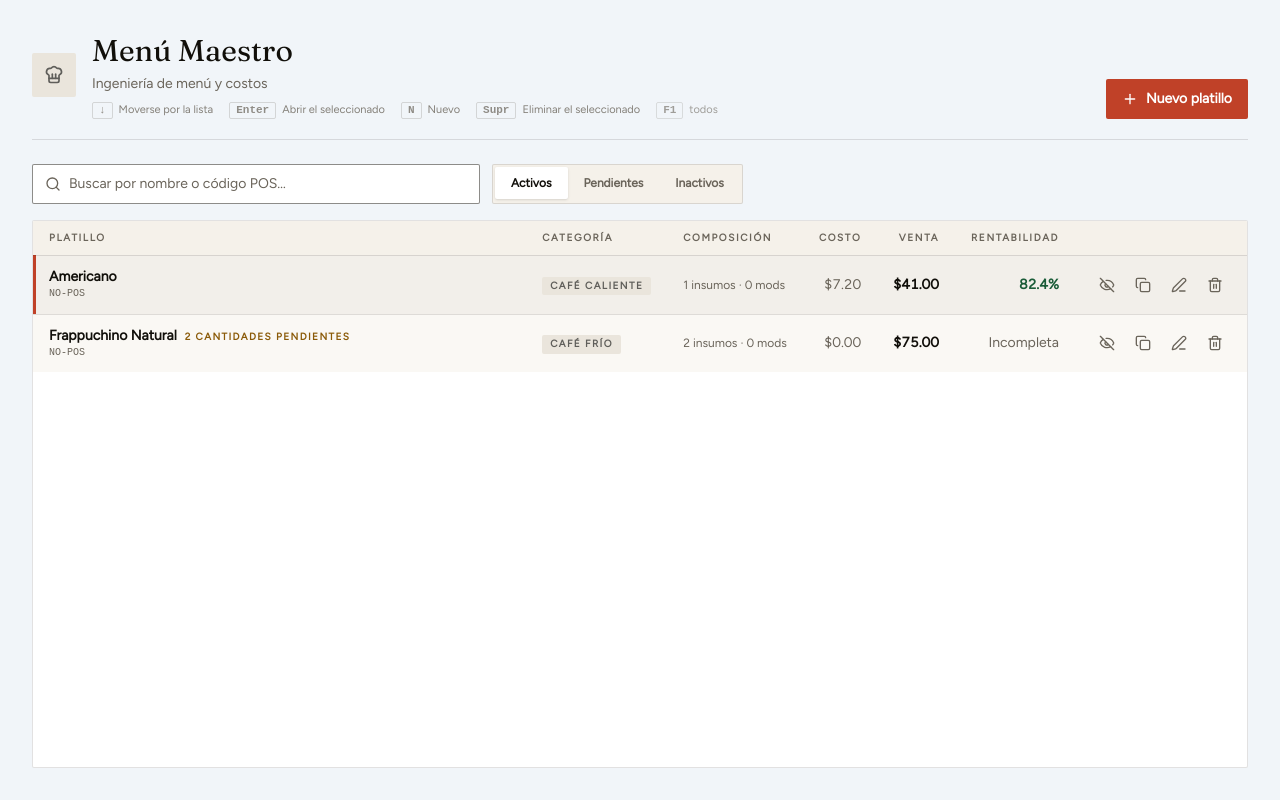
Test: RecetasScreen · recetas plantilla › volver a agregar un ingrediente le pone la cantidad nueva: no suma
This screenshot has width=1280, height=800.
Double-click the text "Americano" at (83, 276), box [49, 268, 117, 285]
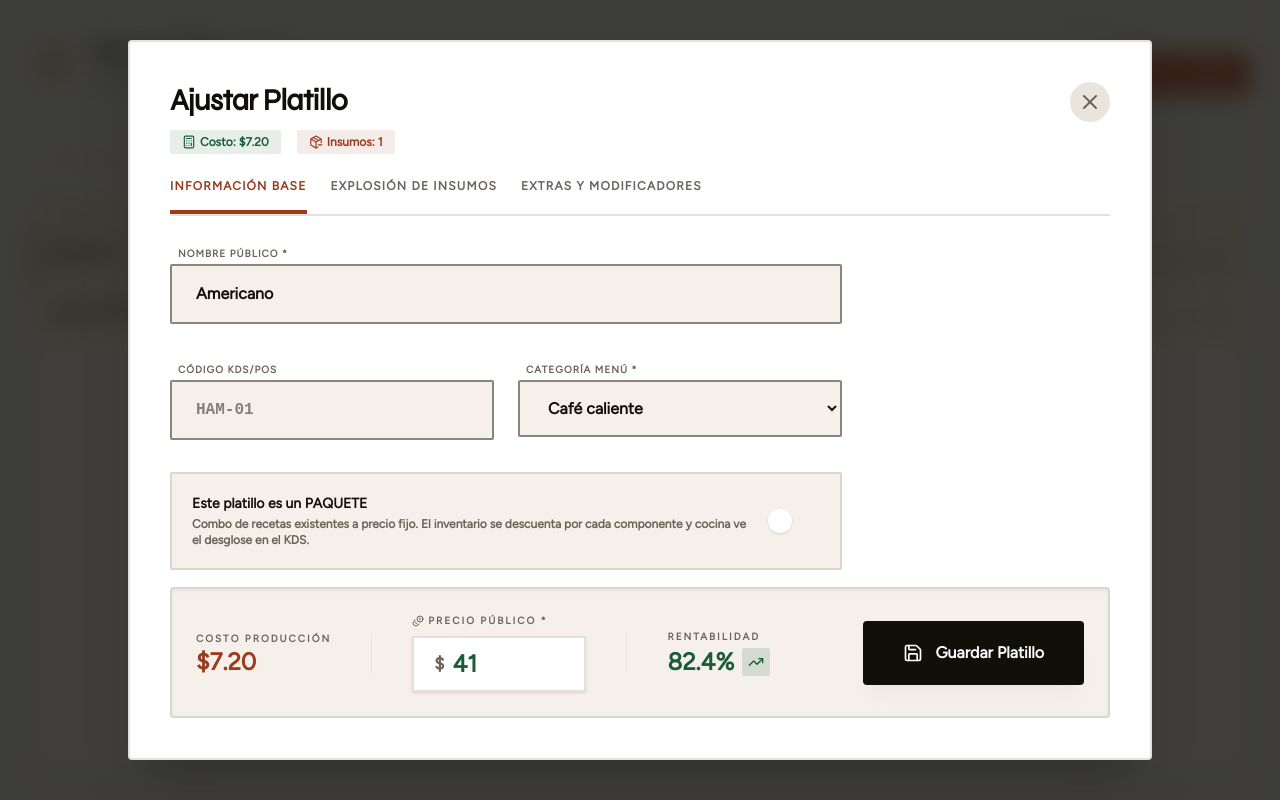
Click the button "Explosión de Insumos" at (414, 196), box [330, 178, 497, 214]
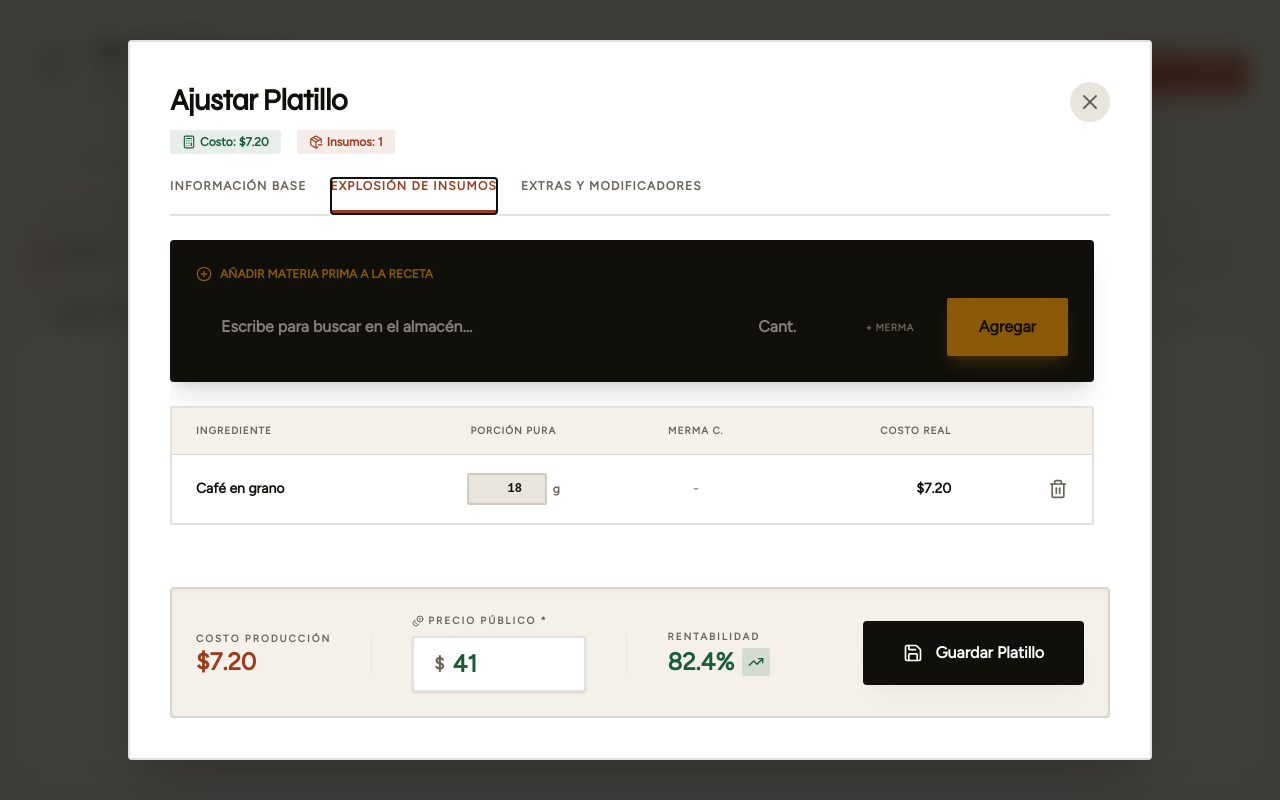
Type "Café" into the field with placeholder "Escribe para buscar en el almacén…" at (458, 327), box [196, 298, 721, 356]
Then press Enter
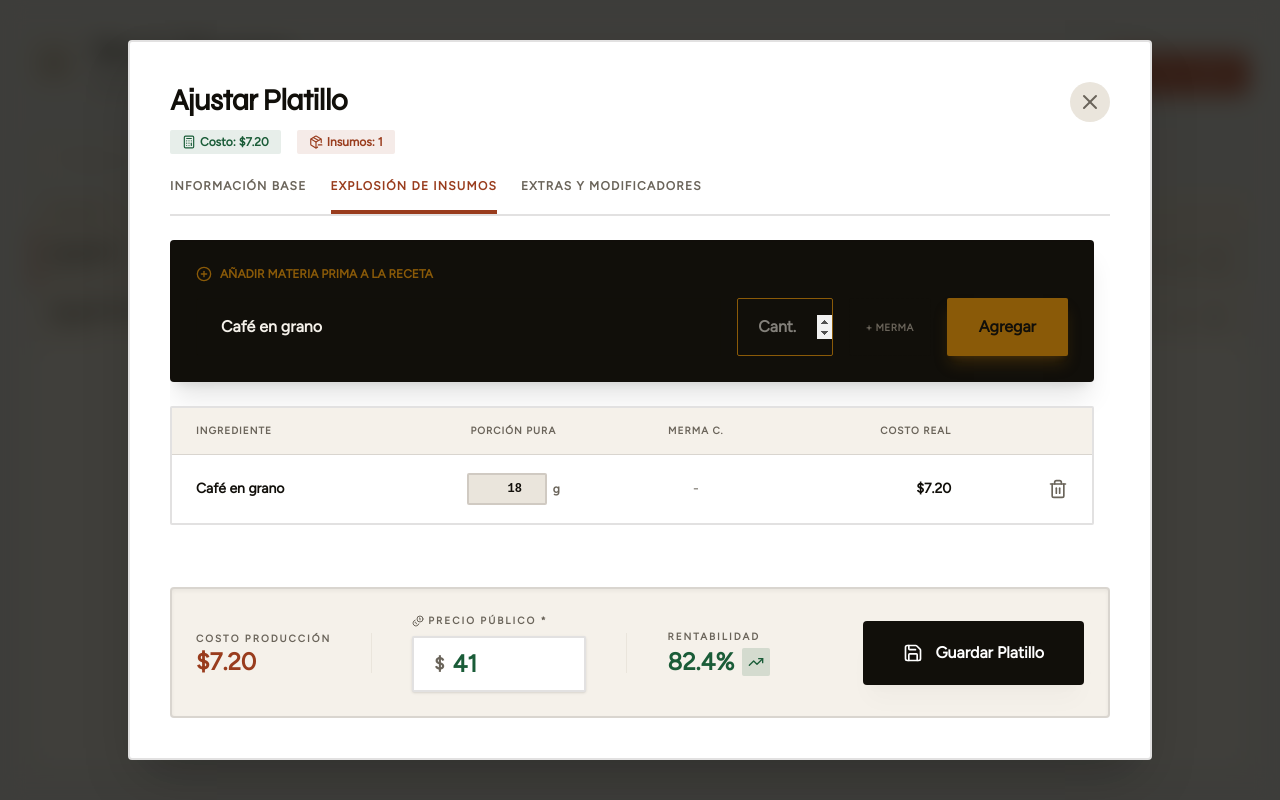
Type "20" into the number field with placeholder "Cant." at (785, 327), box [737, 298, 833, 356]
Then press Enter
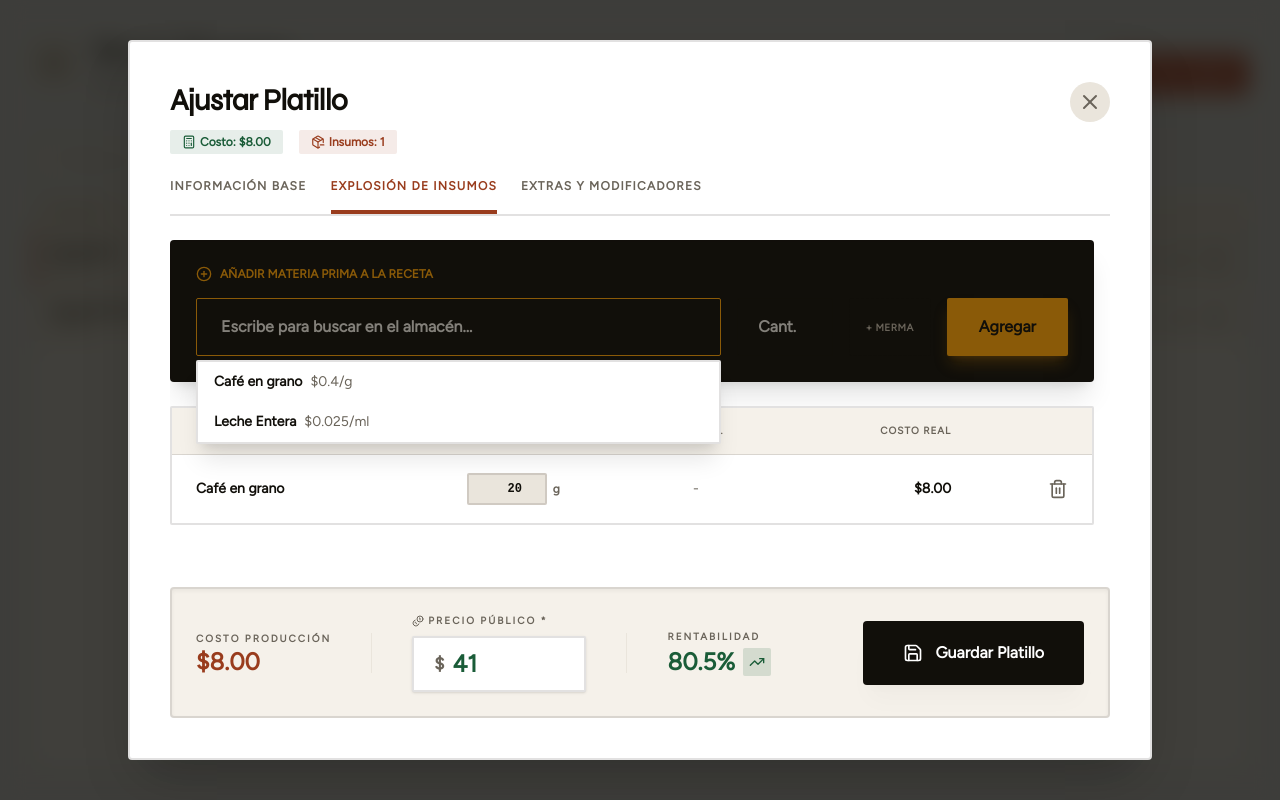
expect the number field named "Cantidad de Café en grano" holds "20": met, box [467, 473, 547, 505]
